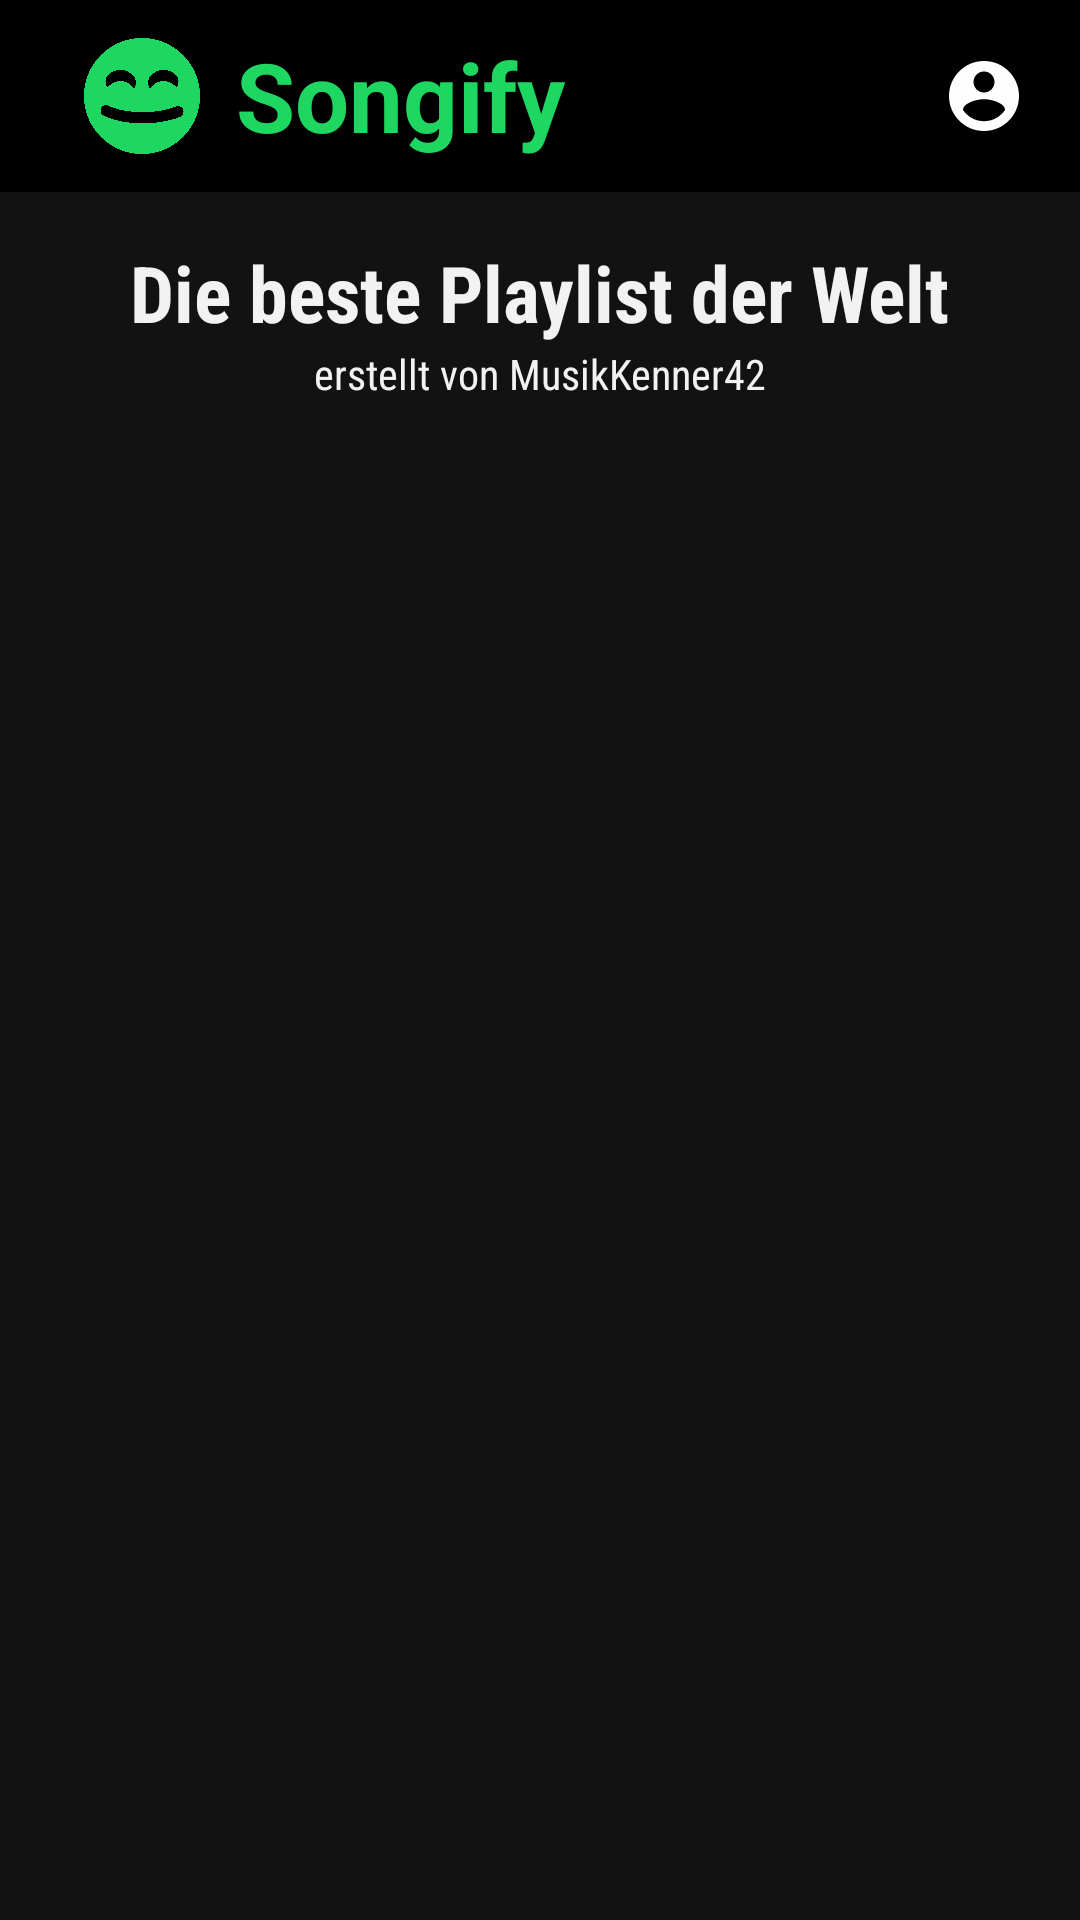

Screen size 1080 x 1920. Icon name, then its box in pixels as (x1, y1, x2, y2):
Konto: (949, 61, 1019, 131)
